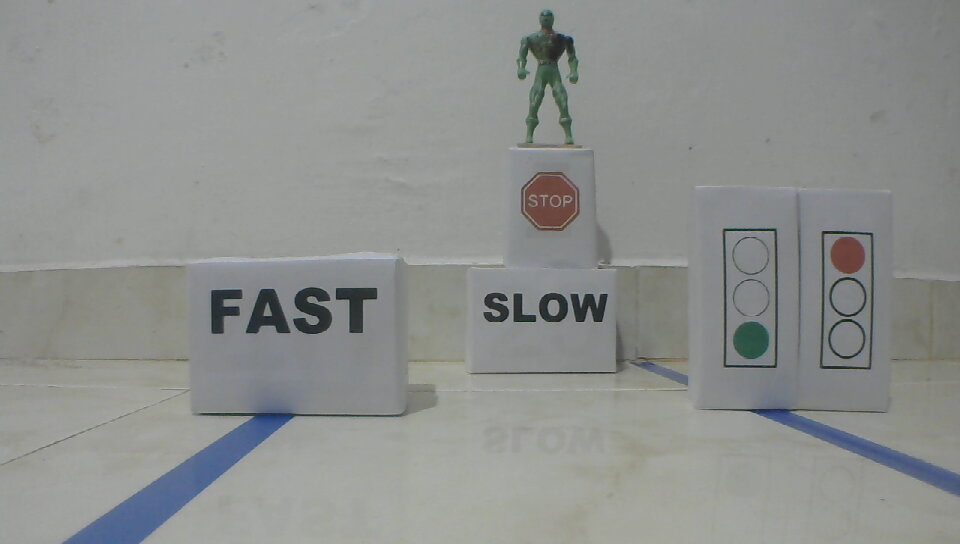Fast: (205, 285, 381, 337)
Green Traffic Light: (721, 227, 781, 371)
Person: (513, 7, 583, 147)
Red Traffic Light: (817, 229, 877, 373)
Slow: (480, 288, 611, 329)
Stop Sign: (519, 173, 582, 234)
